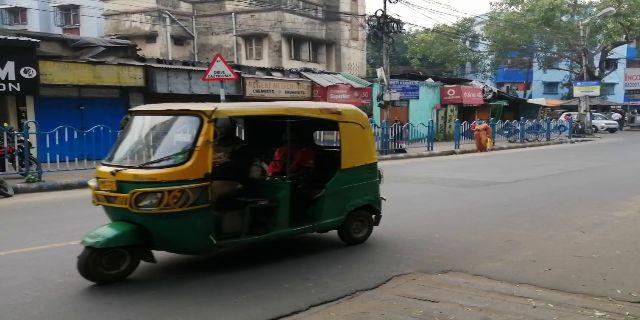Autorickshaw: (76, 109, 388, 278)
